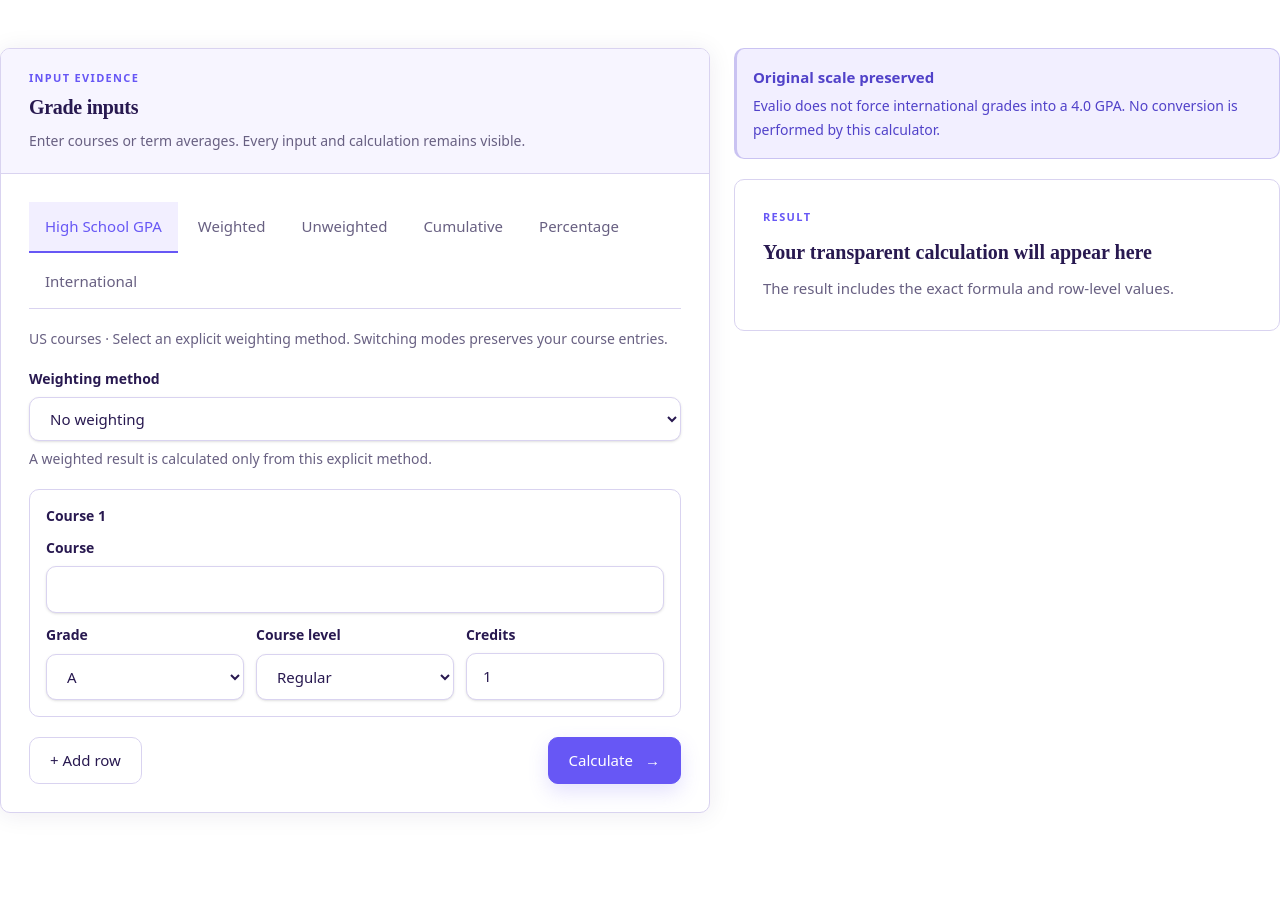
GPA Toolkit T4 › submits an explicit US weighting method and shows formulas
Select "Honors +0.5; AP, IB, dual enrollment, other advanced +1.0" in the dropdown labelled "Weighting method": (355, 419) [29,397,681,441]
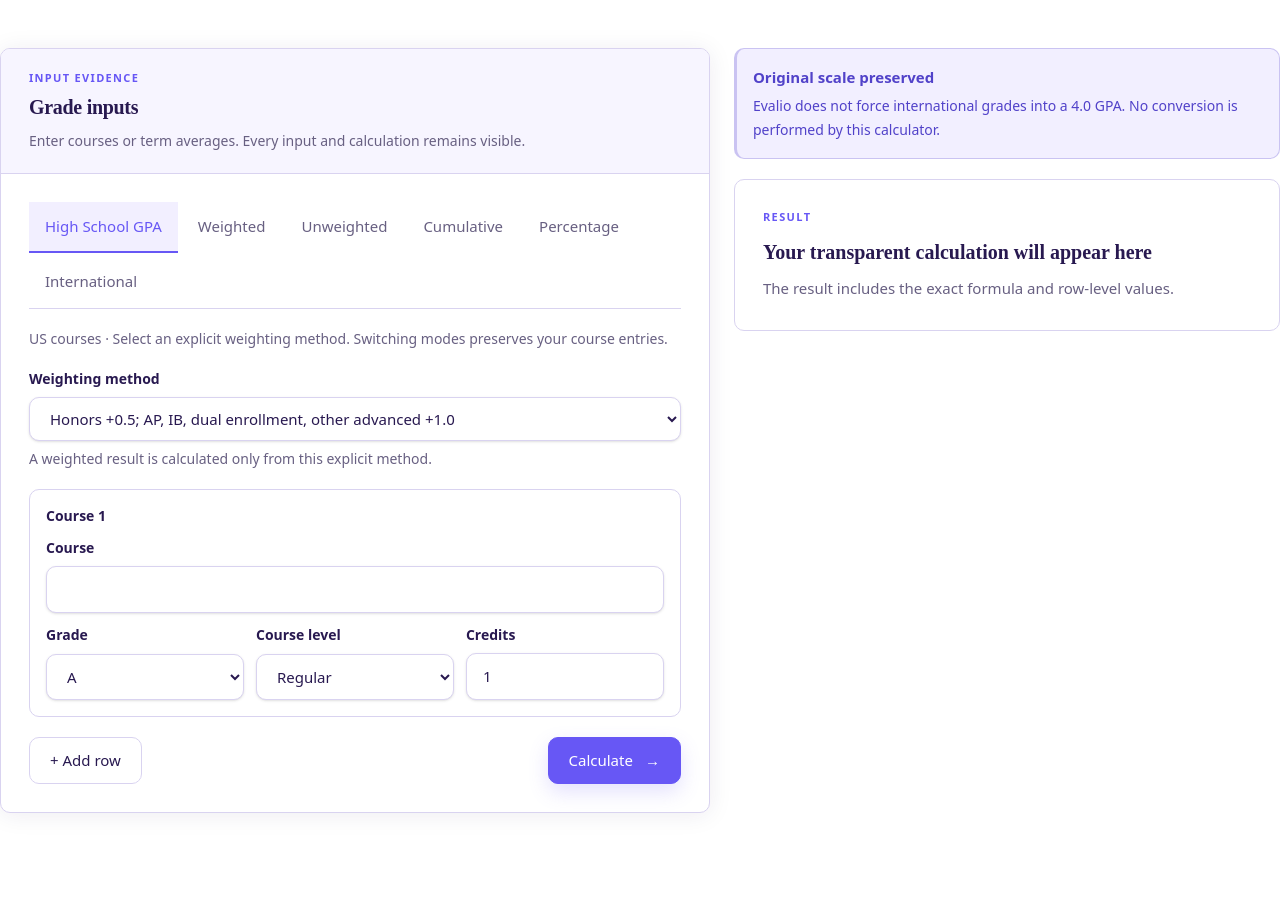
In the field labelled "Course": (355, 589) [46,566,664,613], type "Calculus"
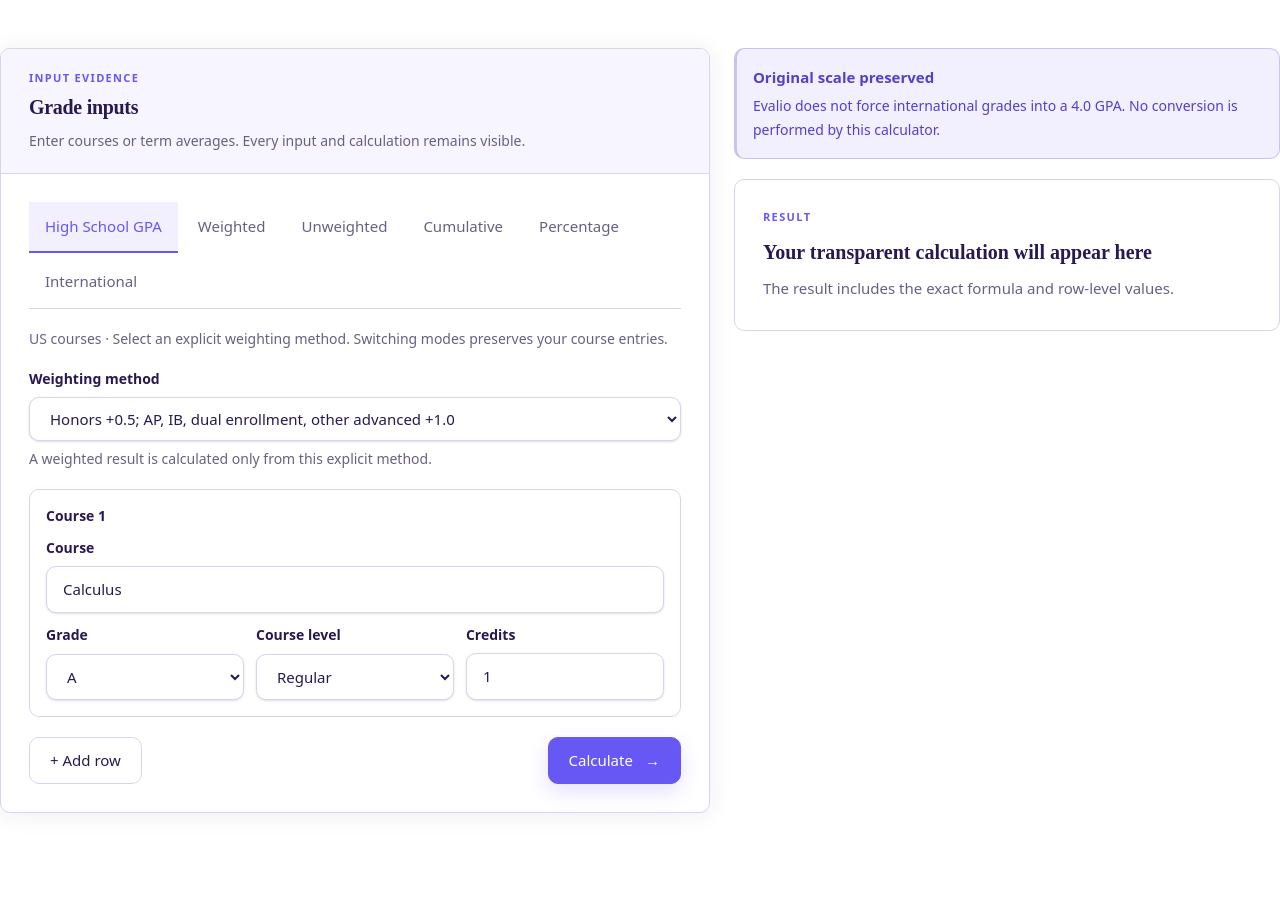
Select "AP" in the dropdown labelled "Course level": (355, 677) [256,654,454,700]
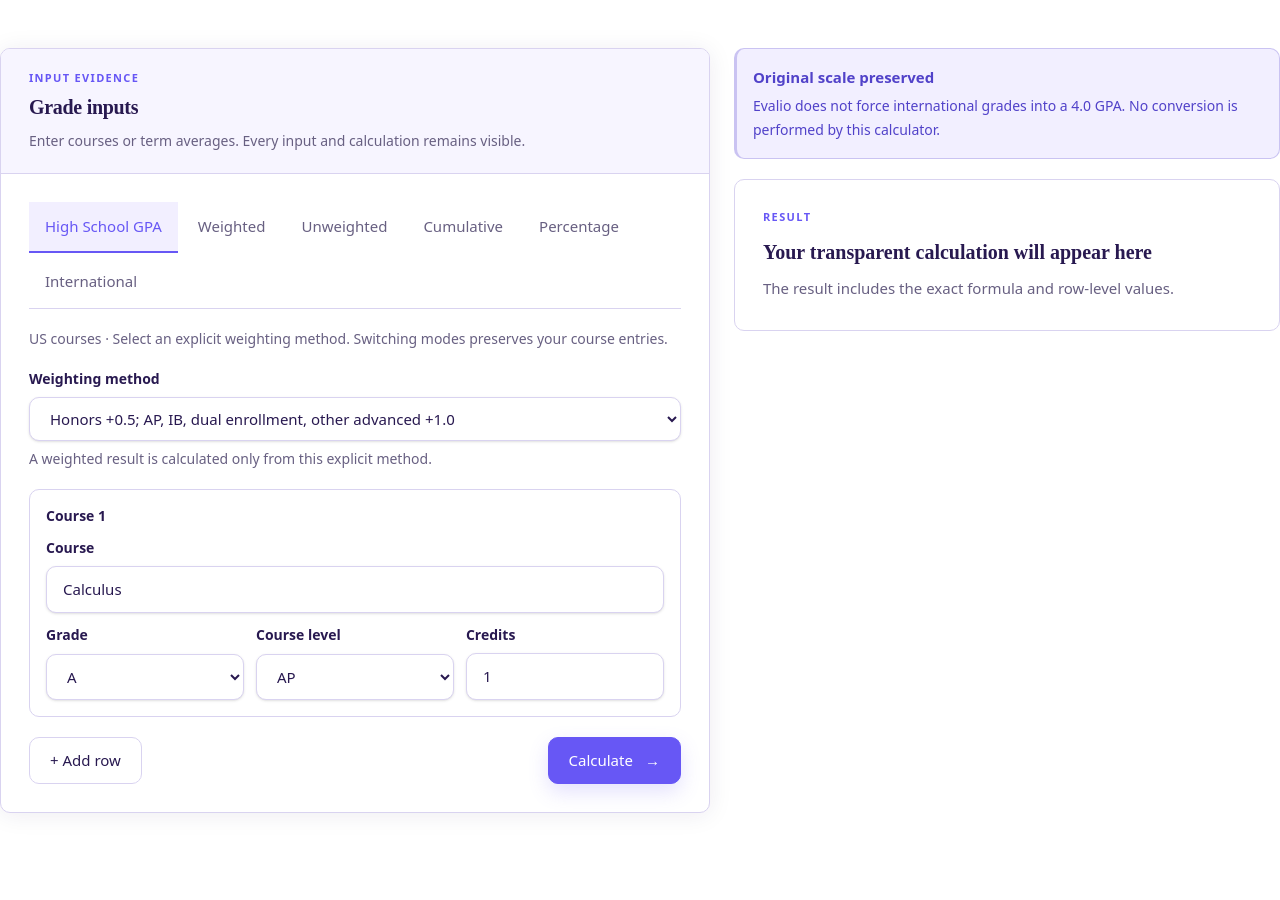
Click the button "Calculate →": (614, 760) [548,737,681,784]
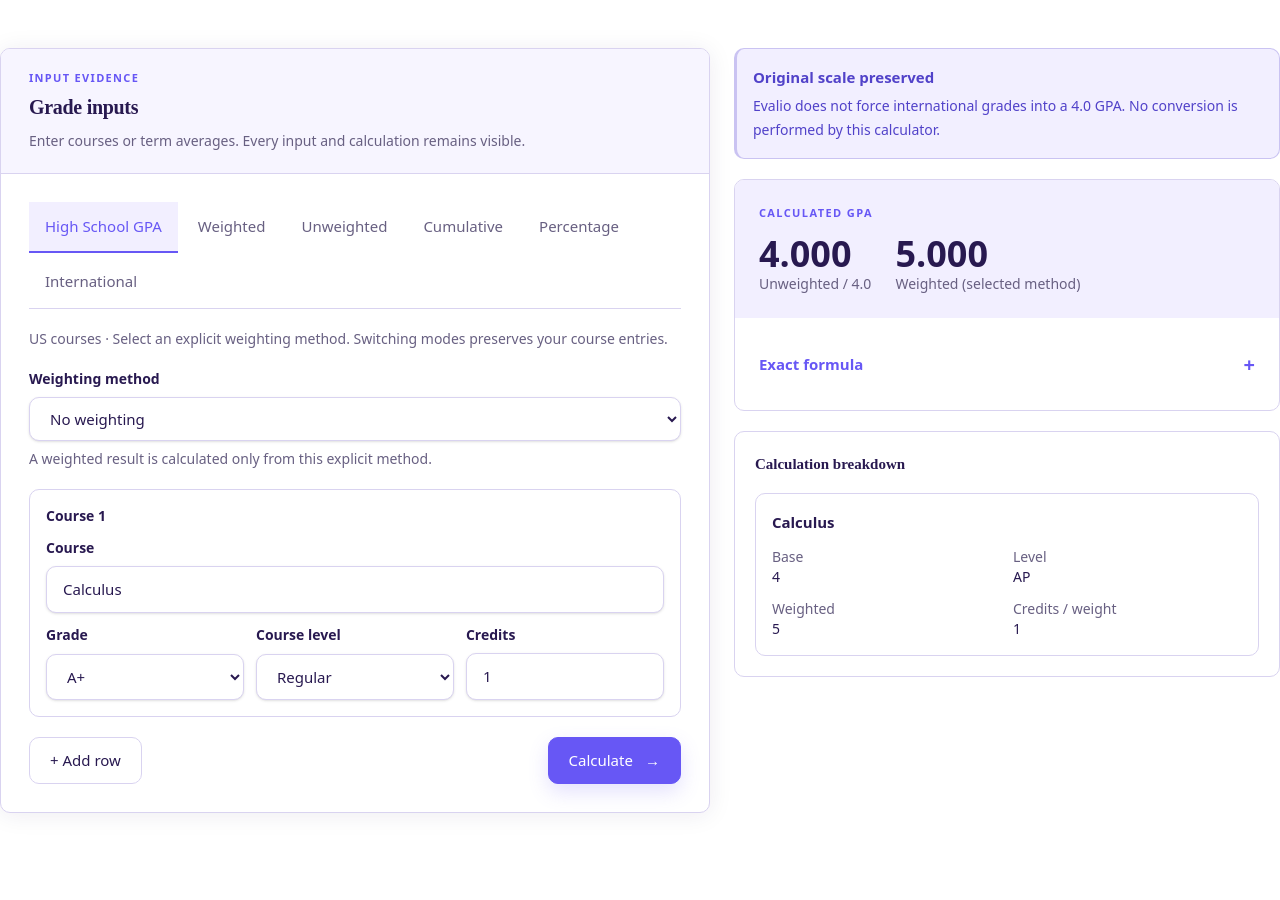
Expected: the text "5.000" is shown, [895,229,988,278]
